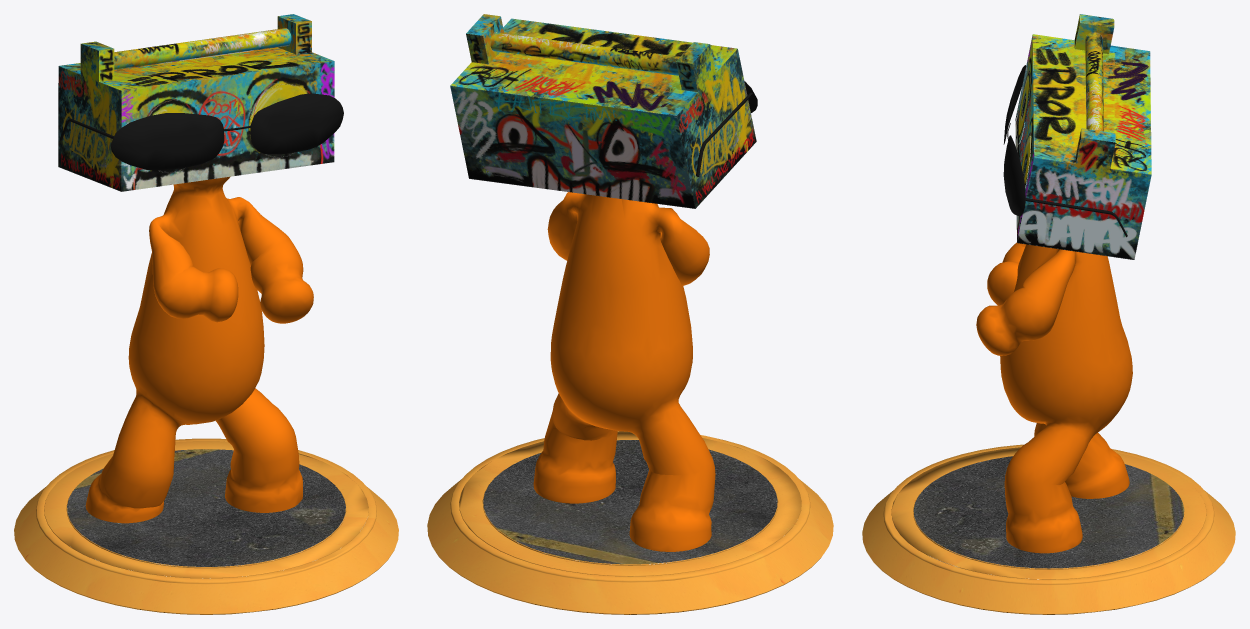
The picture shows the model from 3 angles, left to right: view 1: azimuth 30°, elevation 25°; view 2: azimuth 150°, elevation 25°; view 3: azimuth 270°, elevation 25°; orthographic projection. The views are drawn at different scales.
Parts seen in each view (by area): view 1: BBody; view 2: BBody; view 3: BBody.
Boxes of the visible parts, box(x1,y1,x2,y2) form: BBody: box(14, 14, 398, 614); BBody: box(427, 14, 833, 614); BBody: box(862, 14, 1235, 614).
Size of the model in its own units: 1.45 by 2.05 by 1.45.
Materials: 5 (3 with a texture image).
